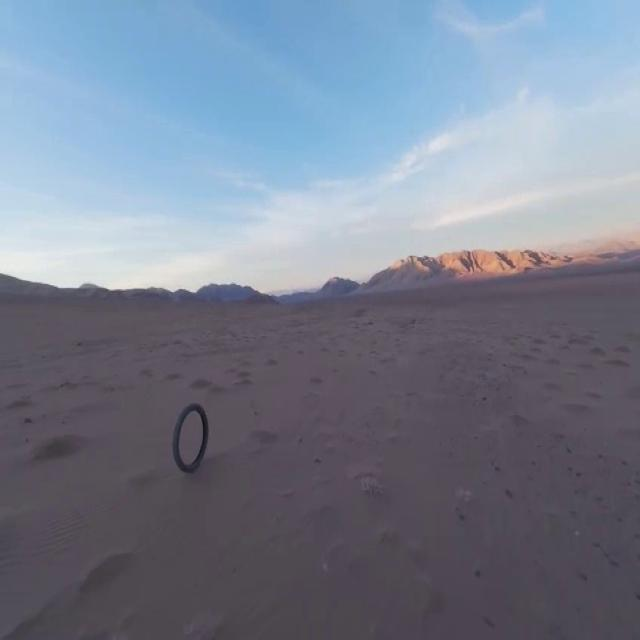Tire: (173, 403, 208, 473)
